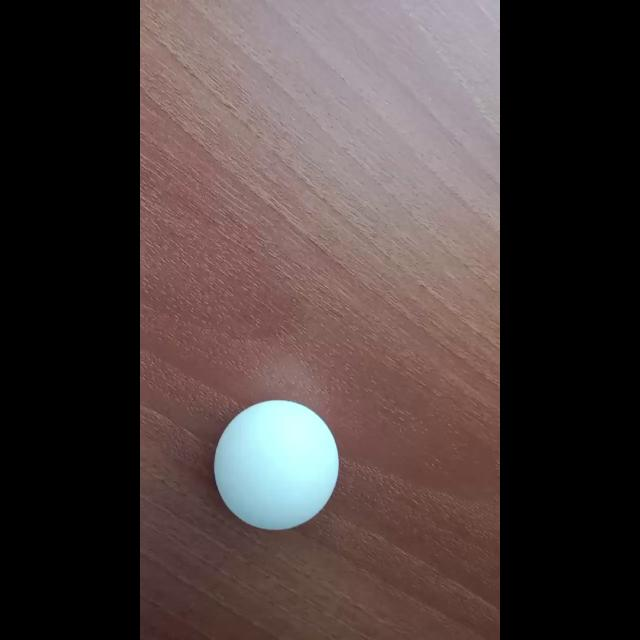white ball: (213, 399, 339, 531)
